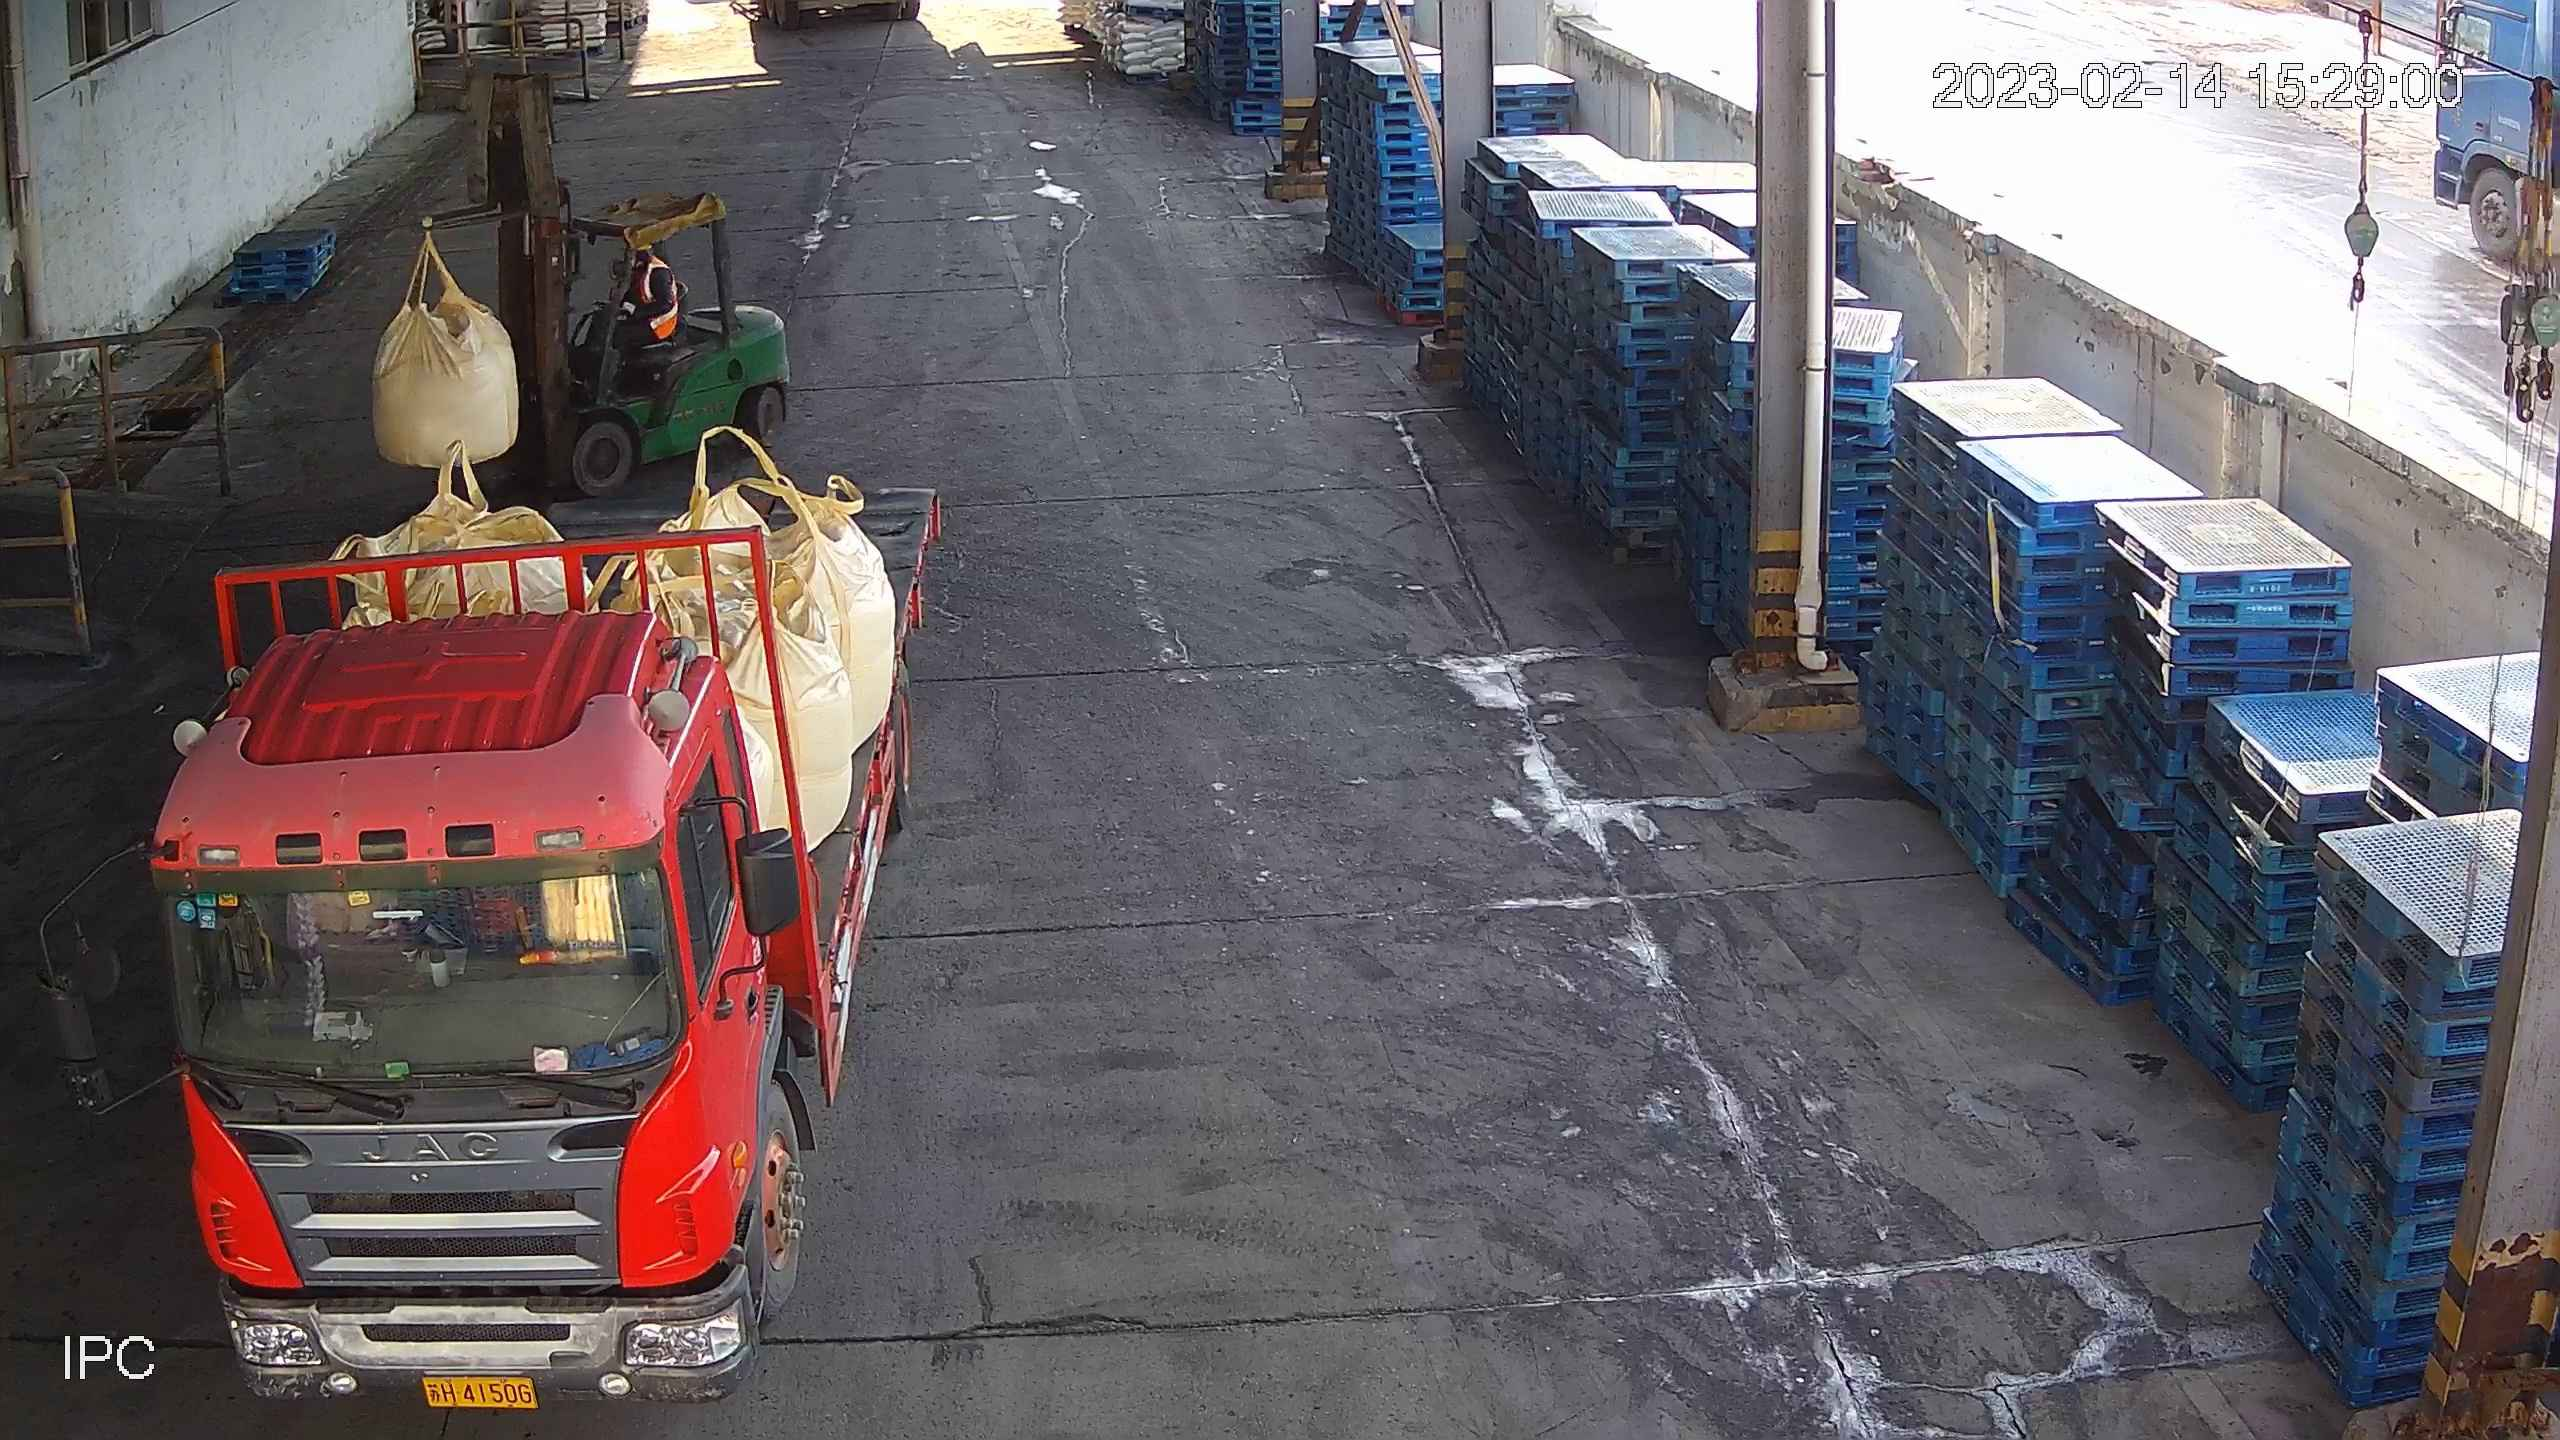people: (613, 243, 678, 351)
truck: (31, 483, 941, 1406)
